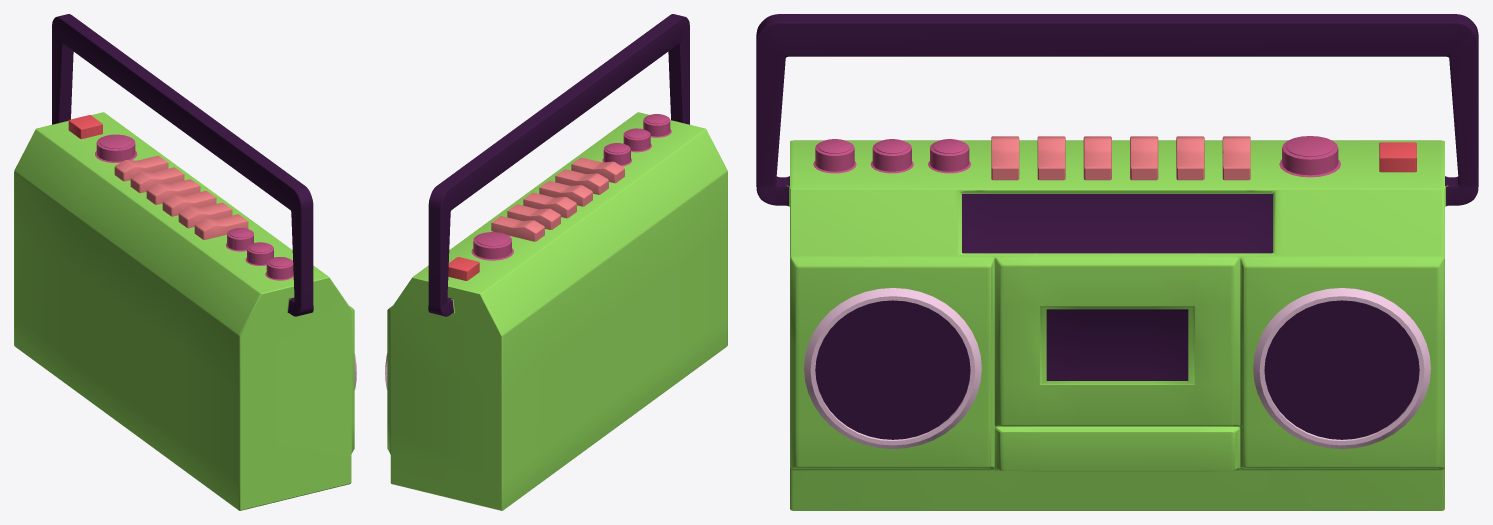
The model's file is BUMBUM.fbx.
3 renders of one model, left to right at view 1: azimuth 30°, elevation 25°; view 2: azimuth 150°, elevation 25°; view 3: azimuth 270°, elevation 25°, orthographic. The views are drawn at different scales.
Visible parts, largest first — view 1: Cube, Cube.001, Cylinder, Cylinder.001, Cube.002; view 2: Cube, Cube.001, Cylinder, Cylinder.001, Cube.002; view 3: Cube, Cylinder.002, Cylinder.003, Cube.001, Cylinder, Cylinder.001, Cube.002.
Part boxes in pixels (left/top/right/bottom): Cube: left=14, top=14, right=354, bottom=510; Cube.001: left=114, top=155, right=248, bottom=239; Cylinder: left=226, top=228, right=293, bottom=280; Cylinder.001: left=95, top=134, right=137, bottom=162; Cube.002: left=68, top=115, right=102, bottom=139; Cube: left=387, top=14, right=727, bottom=510; Cube.001: left=491, top=157, right=624, bottom=241; Cylinder: left=602, top=114, right=671, bottom=166; Cylinder.001: left=471, top=232, right=513, bottom=260; Cube.002: left=448, top=257, right=479, bottom=280; Cube: left=756, top=14, right=1478, bottom=510; Cylinder.002: left=804, top=288, right=981, bottom=448; Cylinder.003: left=1253, top=288, right=1430, bottom=448; Cube.001: left=991, top=136, right=1250, bottom=180; Cylinder: left=813, top=139, right=970, bottom=173; Cylinder.001: left=1279, top=136, right=1340, bottom=177; Cube.002: left=1379, top=142, right=1416, bottom=172.
Size of the model in its own units: 111 by 268 by 386.
